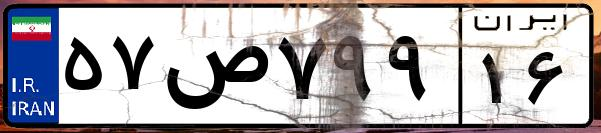1: (475, 38, 525, 113)
5: (57, 26, 110, 100)
6: (525, 38, 570, 115)
7: (270, 28, 330, 110), (110, 28, 158, 98)
9: (385, 28, 445, 110), (330, 28, 385, 110)
ص: (158, 20, 270, 120)
